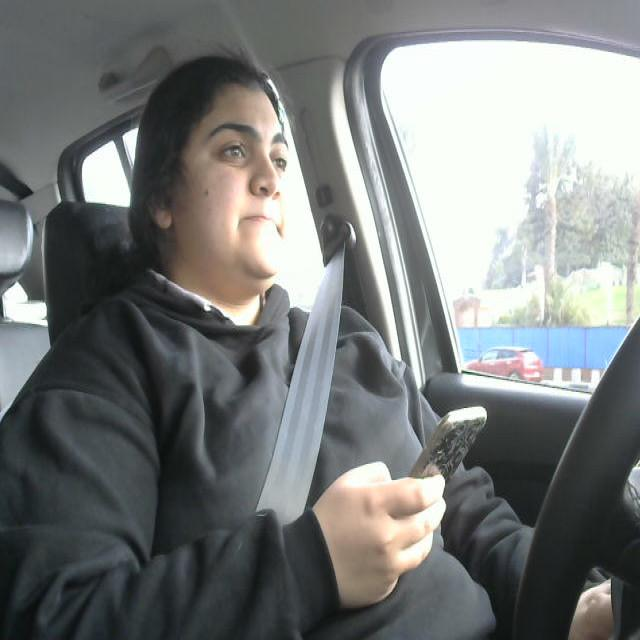mobile use: (394, 400, 497, 504)
